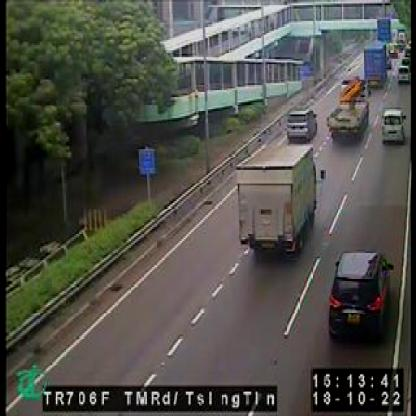Car: (327, 249, 395, 346), (285, 107, 318, 142), (381, 104, 406, 144), (397, 62, 411, 86)
Truck: (235, 142, 325, 259), (326, 76, 370, 144), (362, 40, 388, 90)
